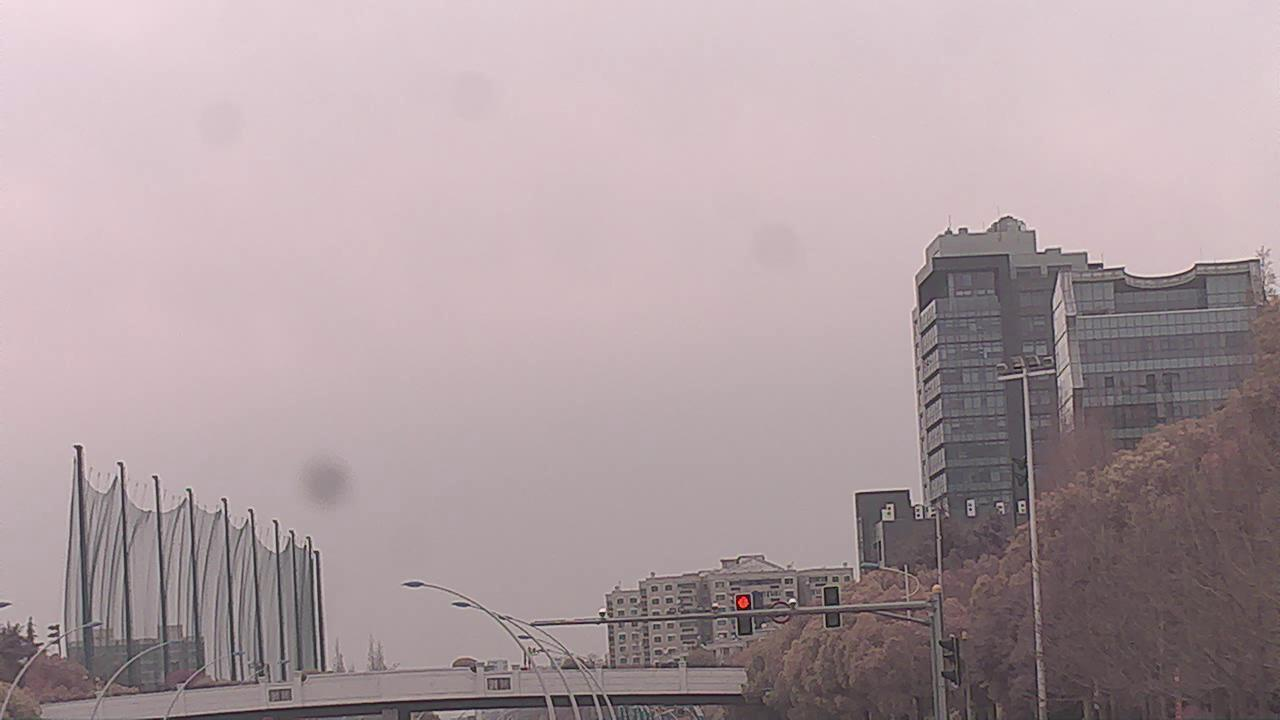traffic_light: (822, 585, 843, 628), (736, 594, 753, 637)
